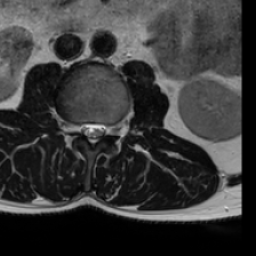CCS_normal: (87, 114, 95, 154)
LFS_normal: (105, 115, 116, 141)
LLS_normal: (95, 114, 105, 145)
RFS_normal: (69, 113, 78, 142)
RLS_normal: (78, 114, 87, 141)
